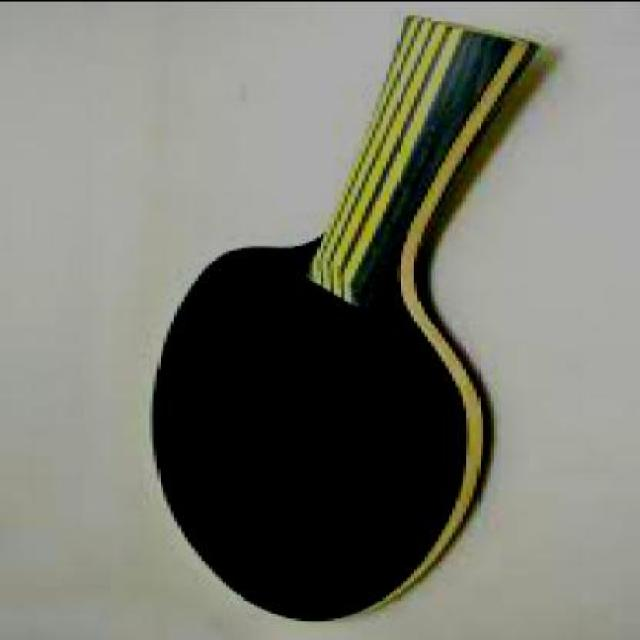table_tennis_racket: (151, 15, 558, 625)
